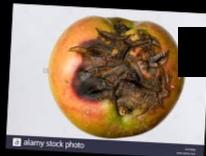rotten apple: (45, 9, 188, 139)
